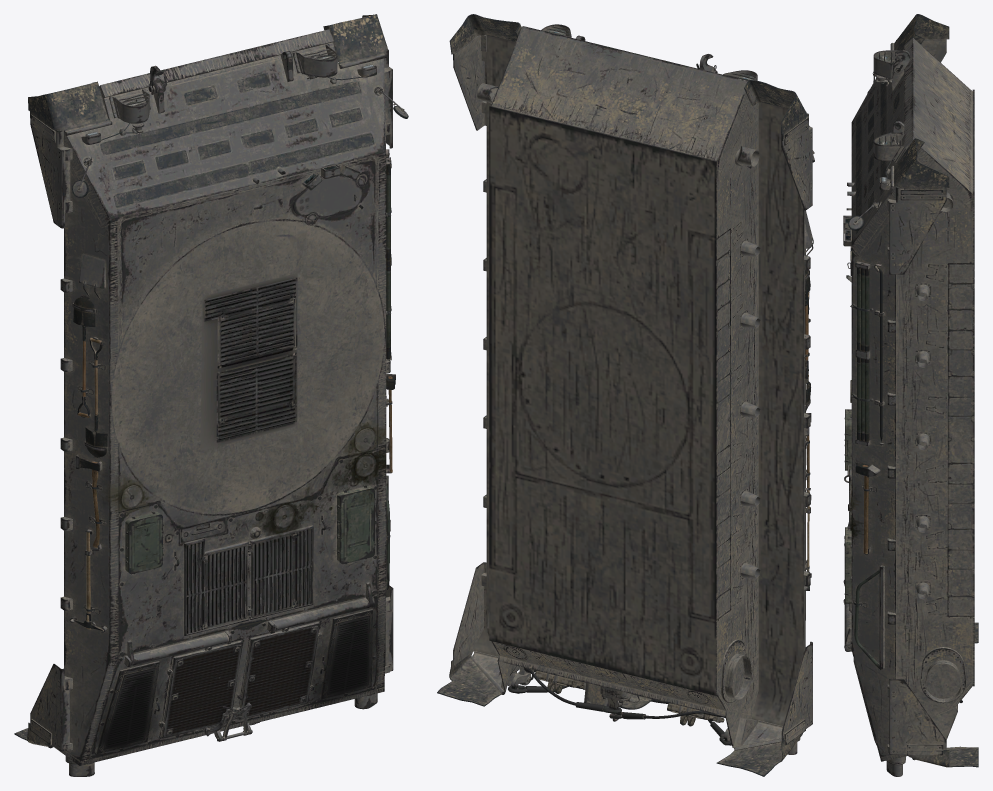
The model's file is Hull.glb.
3 views of the same model, side by side, from view 1: azimuth 30°, elevation 25°; view 2: azimuth 150°, elevation 25°; view 3: azimuth 270°, elevation 25° (orthographic). The views are drawn at different scales.
Visible parts, largest first — view 1: set_0_group_0; view 2: set_0_group_0; view 3: set_0_group_0.
Boxes of the visible parts, bbox=[...] form: set_0_group_0: bbox=[14, 14, 408, 776]; set_0_group_0: bbox=[437, 14, 814, 776]; set_0_group_0: bbox=[843, 14, 978, 776].
Size of the model in its own units: 3.36 by 6.52 by 1.27.
1 material, 1 textured.
